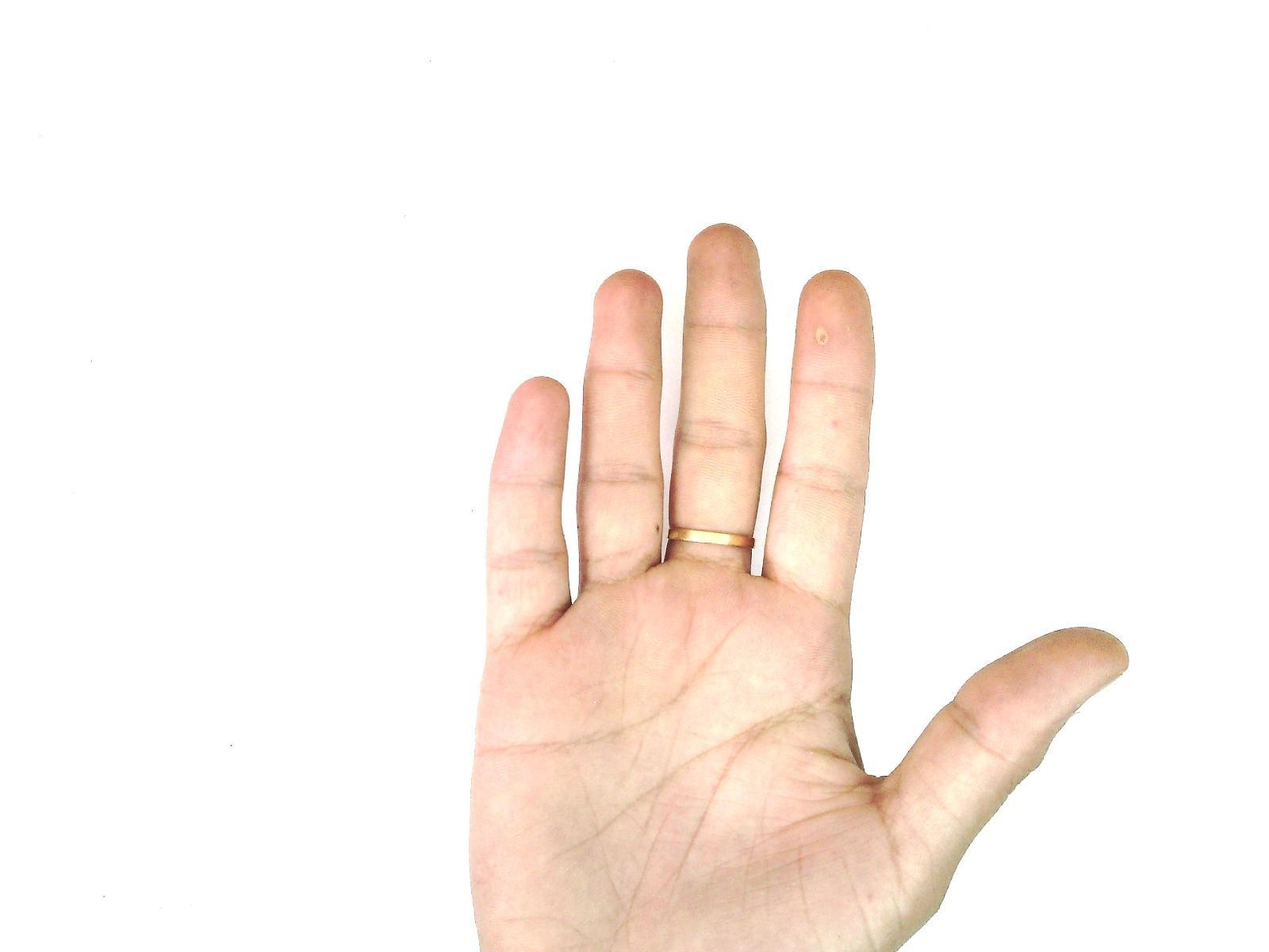open_palm: (465, 222, 1131, 952)
